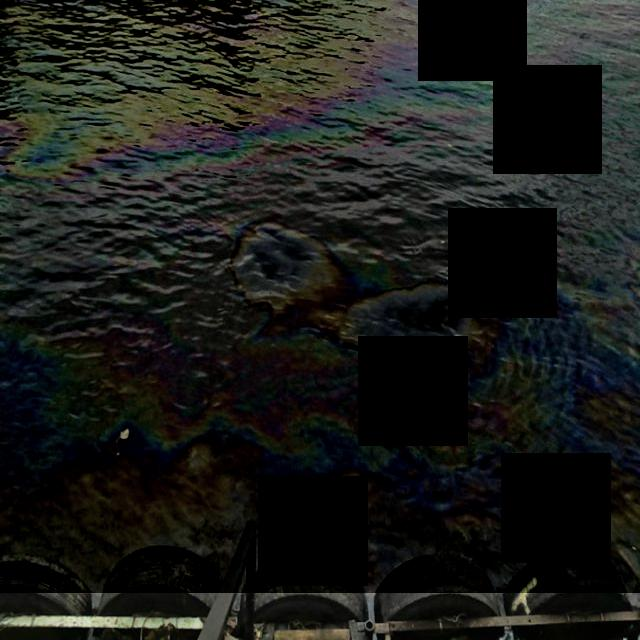oil spill: (0, 1, 640, 593)
